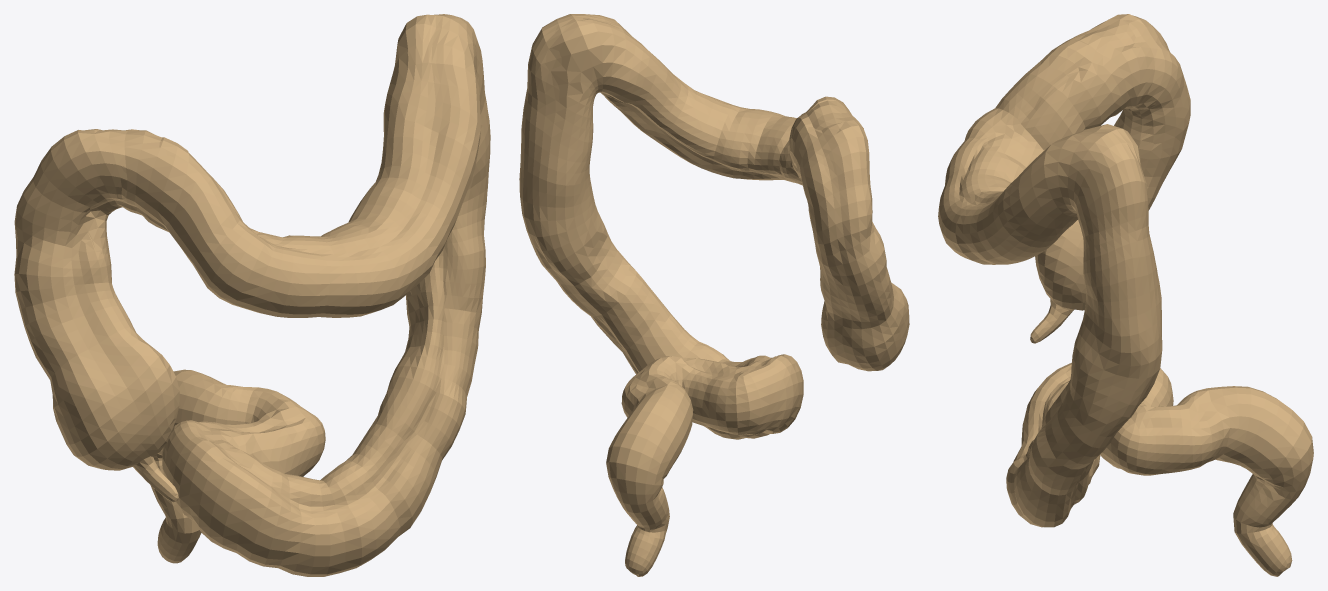
File: colon.glb
3 views of the same model, side by side, from view 1: azimuth 30°, elevation 25°; view 2: azimuth 150°, elevation 25°; view 3: azimuth 270°, elevation 25° (orthographic). The views are drawn at different scales.
Visible parts, largest first — view 1: colon; view 2: colon; view 3: colon.
Part boxes in pixels (x1=…): colon: x1=14, y1=14, x2=490, y2=576; colon: x1=519, y1=14, x2=909, y2=576; colon: x1=938, y1=14, x2=1313, y2=576.
Size of the model in its own units: 0.2433 by 0.2949 by 0.1934.
